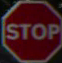Stop: (3, 8, 61, 54)
